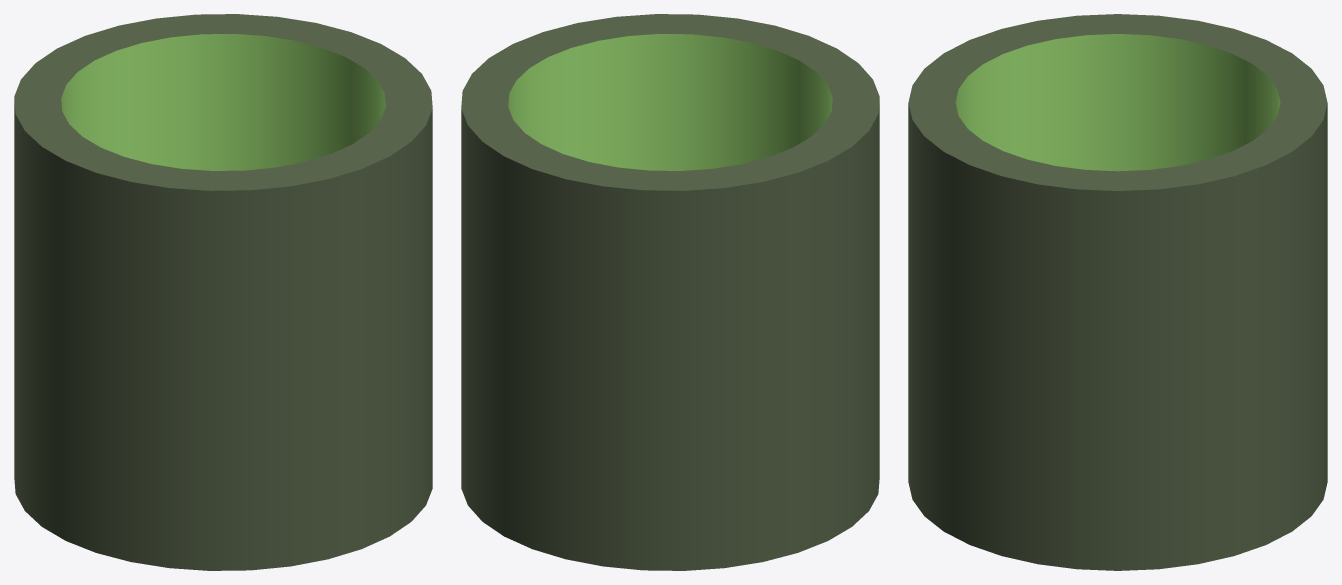
3 renders of one model, left to right at view 1: azimuth 30°, elevation 25°; view 2: azimuth 150°, elevation 25°; view 3: azimuth 270°, elevation 25°, orthographic.
Visible parts, largest first — view 1: Outside; view 2: Outside; view 3: Outside.
Boxes of the visible parts, x1=… form: Outside: x1=14, y1=14, x2=432, y2=570; Outside: x1=461, y1=14, x2=879, y2=570; Outside: x1=908, y1=14, x2=1327, y2=570.
Bounding box in the file's own units: 110 × 110 × 110.
